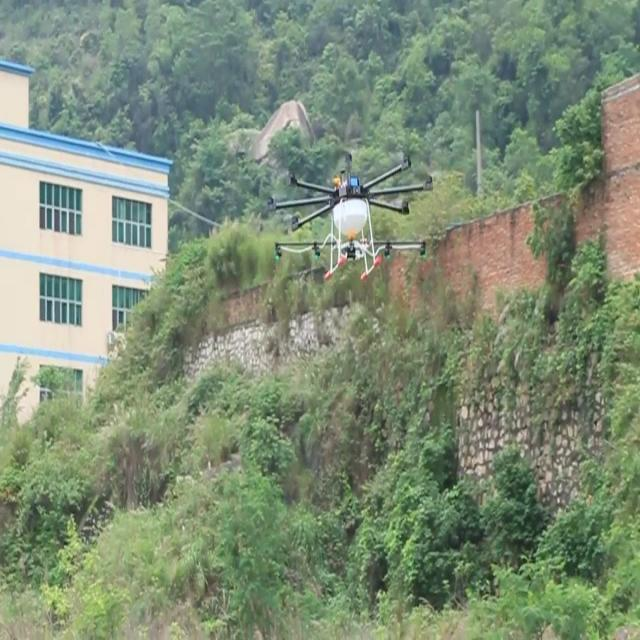UAV: (267, 154, 433, 281)
